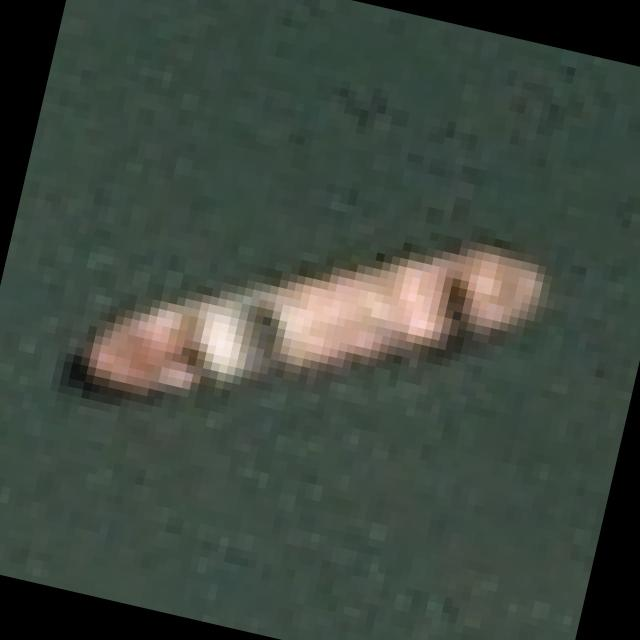ship: (52, 99, 584, 525)
